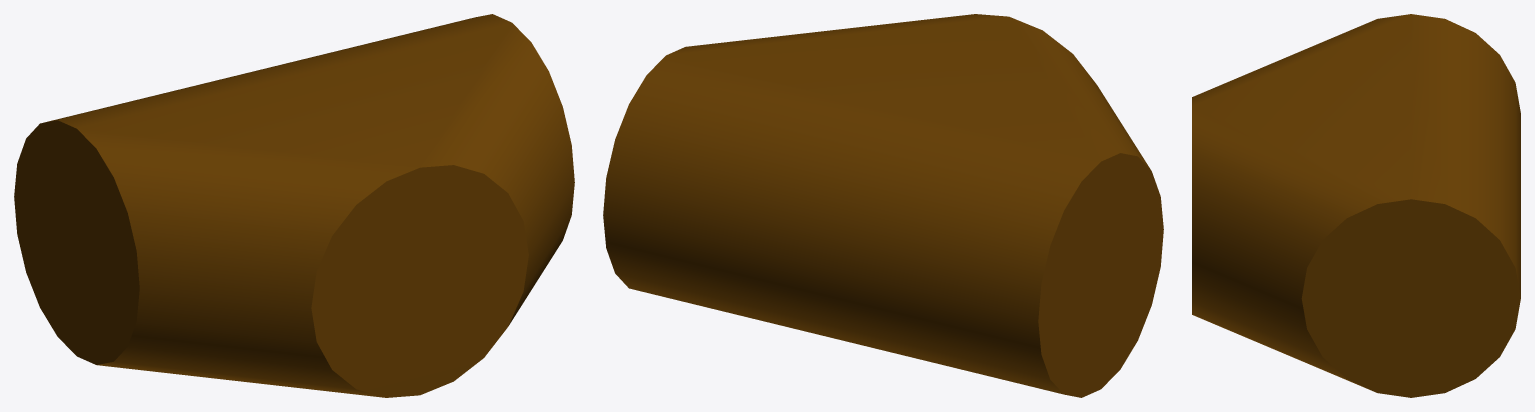
The model's file is AIR_D400_Y.FBX.
The picture shows the model from 3 angles, left to right: view 1: azimuth 30°, elevation 25°; view 2: azimuth 150°, elevation 25°; view 3: azimuth 270°, elevation 25°; orthographic projection. The views are drawn at different scales.
Parts seen in each view (by area): view 1: AIR_D400_Y; view 2: AIR_D400_Y; view 3: AIR_D400_Y.
Part boxes in pixels (x1=…): AIR_D400_Y: x1=14, y1=14, x2=574, y2=397; AIR_D400_Y: x1=603, y1=14, x2=1163, y2=397; AIR_D400_Y: x1=1192, y1=14, x2=1520, y2=397.
Size of the model in its own units: 80.01 by 40 by 60.
